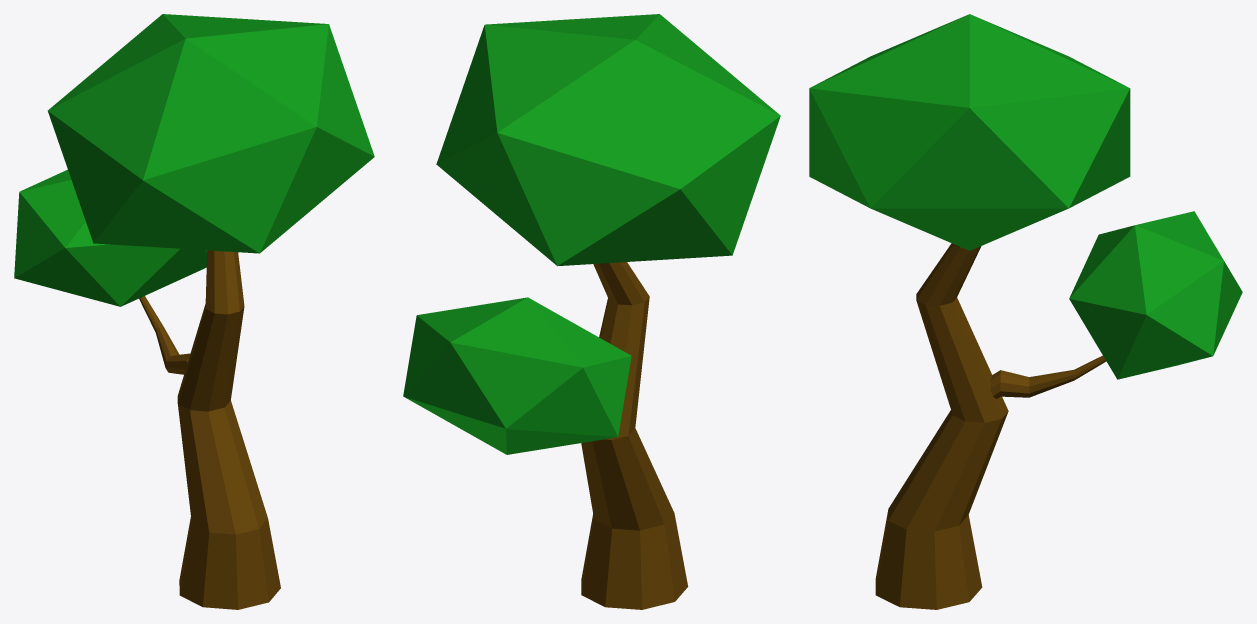
File: arbre_low_poly.glb
The picture shows the model from 3 angles, left to right: view 1: azimuth 30°, elevation 25°; view 2: azimuth 150°, elevation 25°; view 3: azimuth 270°, elevation 25°; orthographic projection. The views are drawn at different scales.
Parts seen in each view (by area): view 1: Object_2, Object_3; view 2: Object_2, Object_3; view 3: Object_2, Object_3.
Boxes of the visible parts, x1,y1,x2,y2 form: Object_2: (14, 14, 374, 306); Object_3: (139, 250, 280, 609); Object_2: (403, 14, 780, 454); Object_3: (581, 262, 688, 609); Object_2: (809, 14, 1242, 379); Object_3: (875, 243, 1106, 609).
Size of the model in its own units: 3.53 by 7.72 by 5.4.
